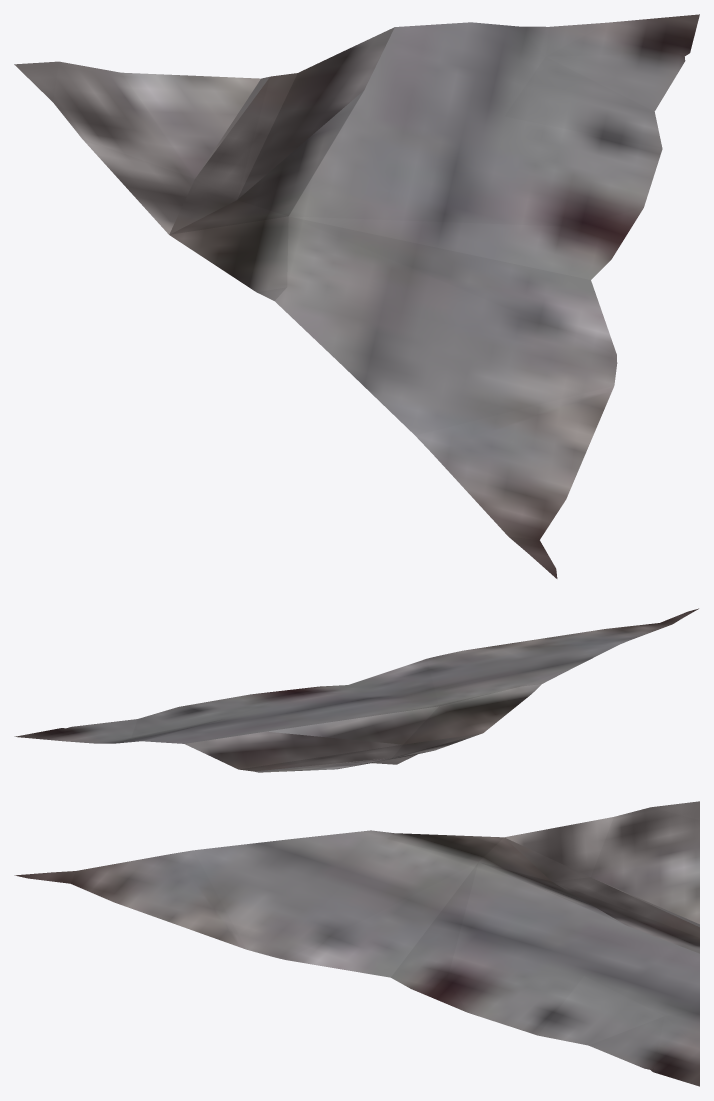
3 views of the same model, one above another, from view 1: azimuth 30°, elevation 25°; view 2: azimuth 150°, elevation 25°; view 3: azimuth 270°, elevation 25° (orthographic). The views are drawn at different scales.
Size of the model in its own units: 0.13 by 0.0213 by 0.1784.
Materials: 1 (1 with a texture image).
